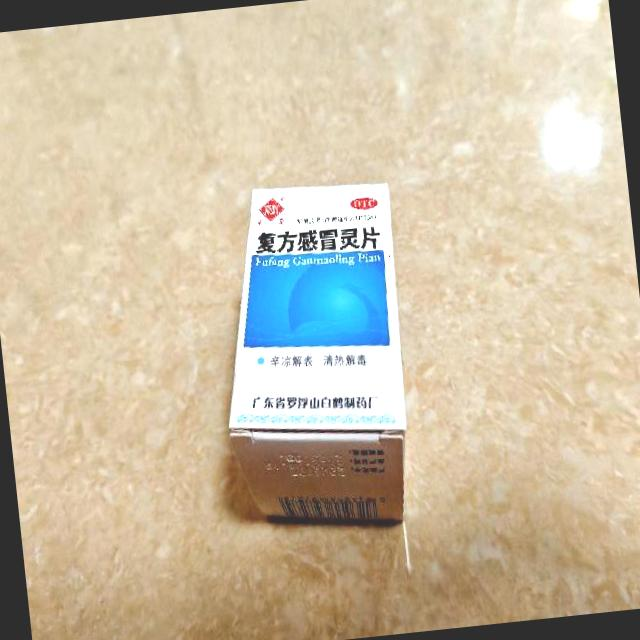box: (204, 176, 420, 538)
